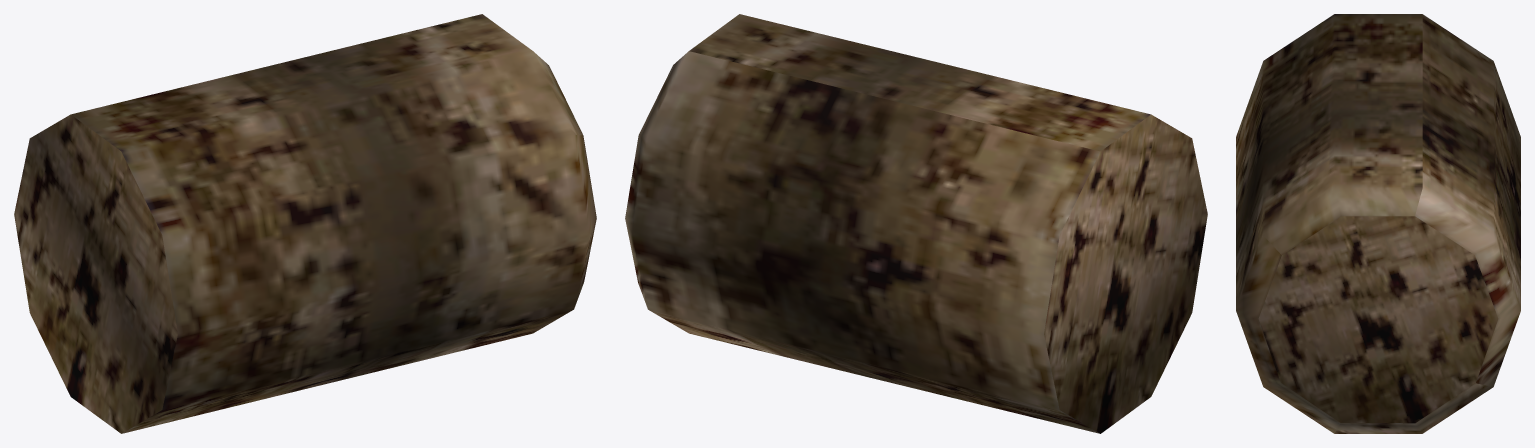
The model's file is bottle_absinthe_cork.dae.
The picture shows the model from 3 angles, left to right: view 1: azimuth 30°, elevation 25°; view 2: azimuth 150°, elevation 25°; view 3: azimuth 270°, elevation 25°; orthographic projection. The views are drawn at different scales.
Parts seen in each view (by area): view 1: cork; view 2: cork; view 3: cork.
Part boxes in pixels (x1,y1,x2,y2): cork: (14,14,596,433); cork: (625,14,1207,433); cork: (1236,14,1520,433).
Size of the model in its own units: 0.0498 by 0.0312 by 0.0328.
